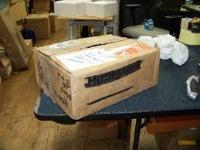undamaged: (31, 29, 161, 122)
